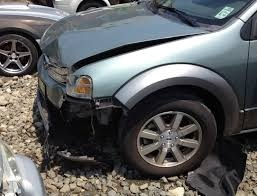Dent: (48, 91, 132, 165), (39, 33, 67, 64)
